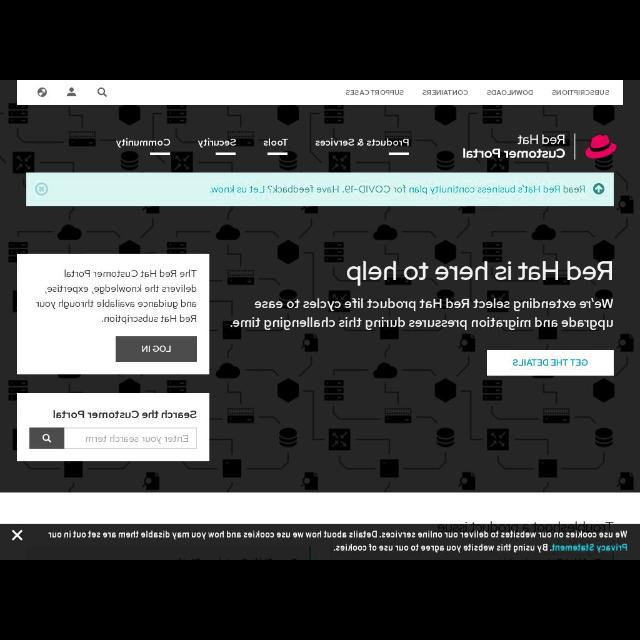button: (36, 183, 49, 195)
icon: (12, 530, 22, 540), (66, 88, 76, 96), (98, 88, 106, 96), (38, 88, 46, 96), (44, 434, 50, 442)
image: (463, 134, 617, 160), (594, 183, 604, 194)
input: (64, 428, 196, 448)
multitab: (17, 80, 623, 104)
text: (231, 298, 613, 330), (49, 532, 627, 552), (36, 270, 196, 324), (346, 260, 612, 286), (212, 186, 584, 194), (53, 410, 197, 418), (86, 436, 188, 444), (316, 138, 408, 146), (116, 138, 170, 148), (513, 360, 587, 366), (198, 138, 236, 148), (346, 90, 404, 96), (552, 90, 608, 96), (488, 90, 532, 96), (264, 138, 288, 146), (423, 91, 467, 95), (142, 346, 170, 352)
textbutton: (486, 350, 614, 376), (116, 337, 196, 361)
